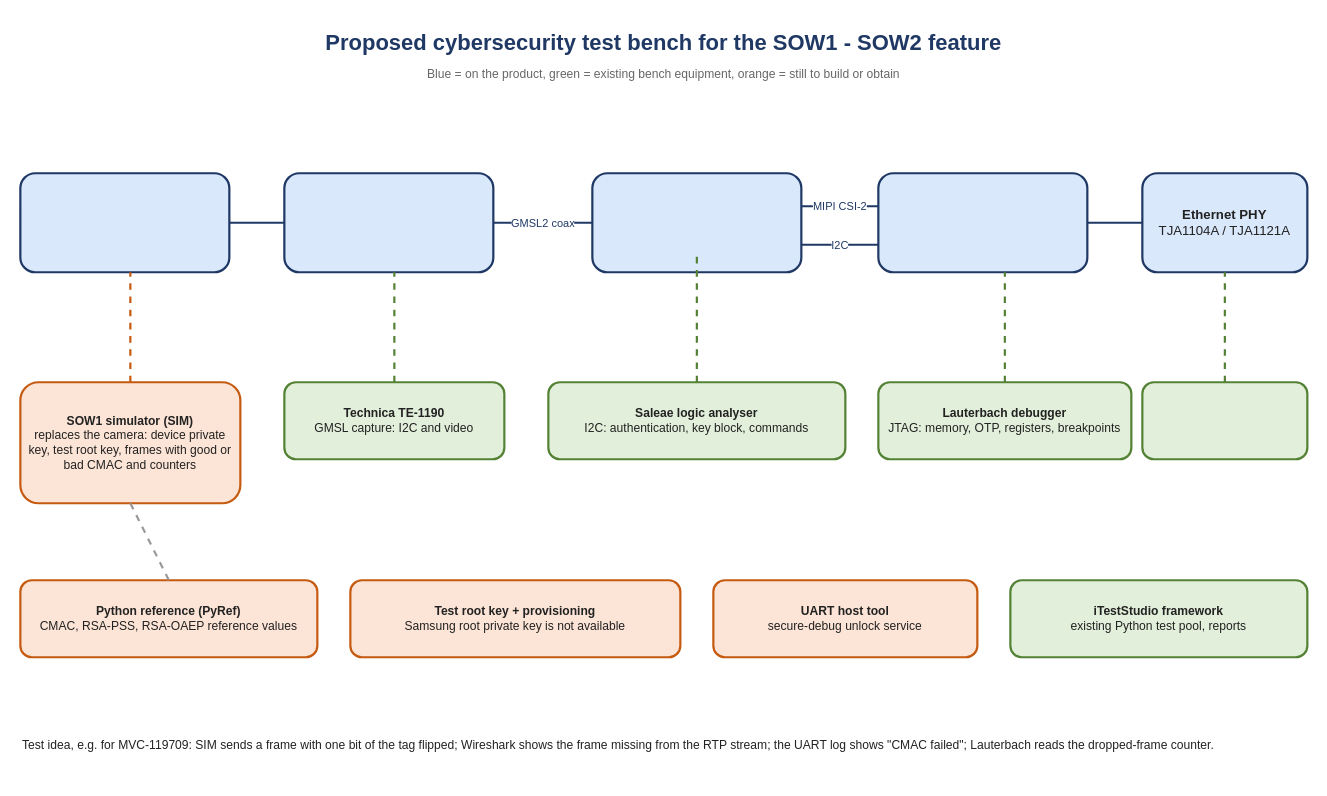
This 1327x796 diagram has some shape labels left out. Here are the shapes that lost their labels. From the top down, the centre of each, then its label:
At (x=124, y=222): "Imager + EEPROM S5K3B6SA (SOW1)".
At (x=388, y=222): "Serializer MAX96717".
At (x=696, y=222): "Deserializer MAX96714".
At (x=982, y=222): "SoC CV22FS SOW2 software OTP: Root key".
At (x=1224, y=420): "Wireshark RTP video, SOME/IP".
